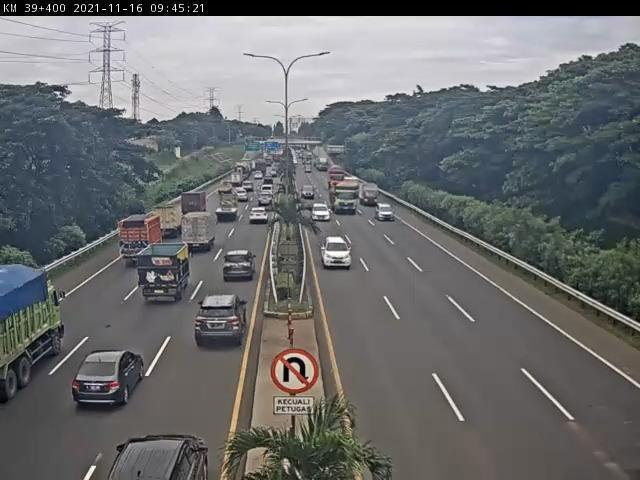car: (72, 350, 146, 405), (197, 294, 250, 346), (322, 236, 353, 271), (223, 250, 257, 281), (375, 203, 396, 224), (311, 203, 332, 223), (251, 209, 272, 226), (233, 188, 250, 204), (260, 194, 275, 208)
truck: (135, 246, 191, 304), (119, 213, 161, 261), (181, 212, 213, 255), (151, 203, 184, 237), (331, 178, 360, 214), (180, 191, 208, 216), (215, 194, 240, 221), (219, 178, 236, 196)
